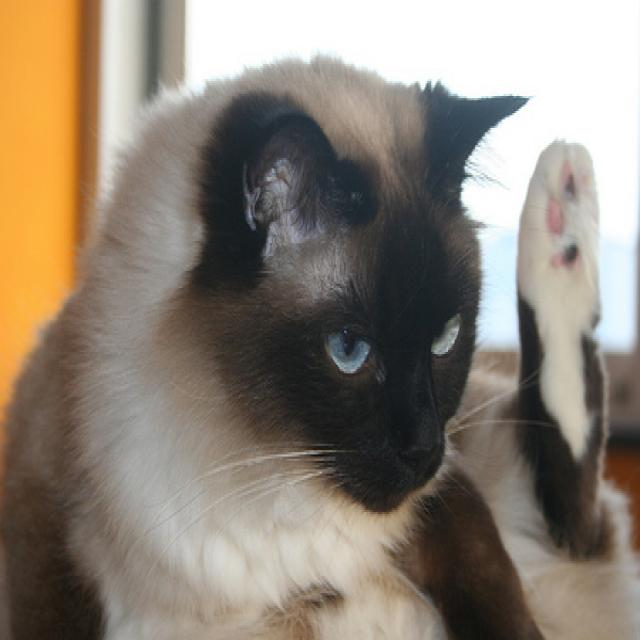Birman: (0, 47, 637, 640)
